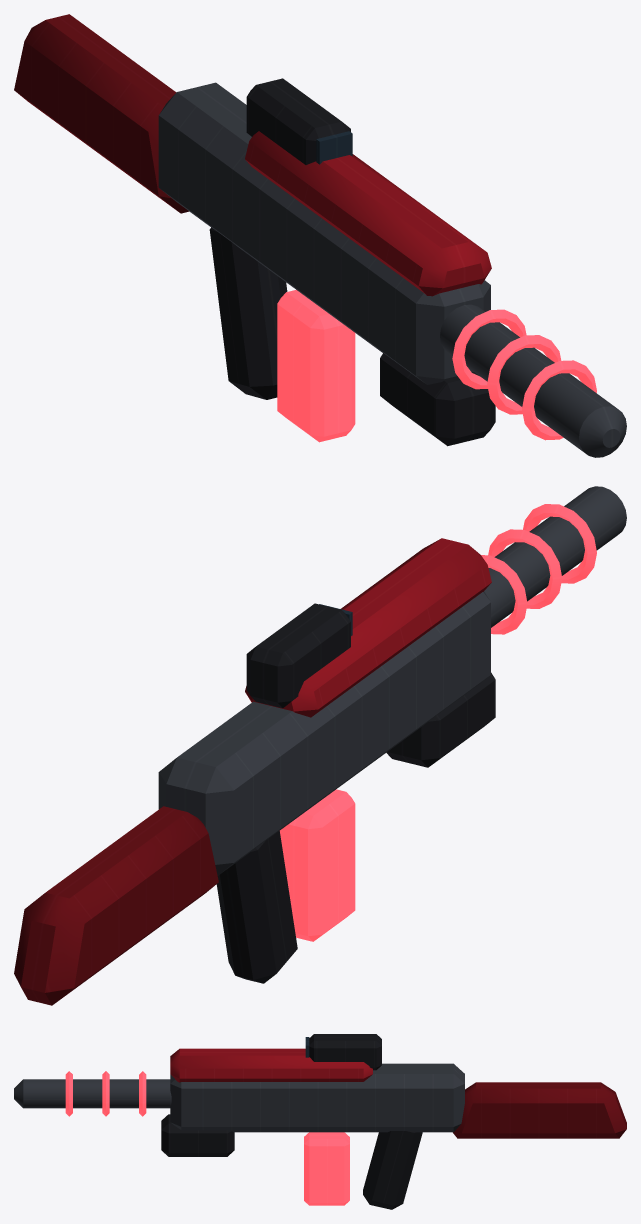
File: gear_crimson_carbine.glb
3 views of the same model, one above another, from view 1: azimuth 30°, elevation 25°; view 2: azimuth 150°, elevation 25°; view 3: azimuth 270°, elevation 25° (orthographic). The views are drawn at different scales.
Visible parts, largest first — view 1: Carbine_Receiver, Carbine_Stock, Carbine_Shell, Carbine_Cell, Carbine_Barrel, Carbine_Grip, Carbine_Fore, Carbine_SightMesh, Carbine_Coil2, Carbine_Coil0, Carbine_Coil1, Carbine_SightLens; view 2: Carbine_Receiver, Carbine_Stock, Carbine_Shell, Carbine_Cell, Carbine_Grip, Carbine_Barrel, Carbine_SightMesh, Carbine_Fore, Carbine_Coil1, Carbine_Coil2, Carbine_Coil0; view 3: Carbine_Receiver, Carbine_Stock, Carbine_Shell, Carbine_Barrel, Carbine_Cell, Carbine_Grip, Carbine_Fore, Carbine_SightMesh, Carbine_Coil1, Carbine_Coil0, Carbine_Coil2.
Part boxes in pixels (x1=…): Carbine_Receiver: x1=158, y1=82, x2=490, y2=384; Carbine_Stock: x1=14, y1=14, x2=188, y2=213; Carbine_Shell: x1=245, y1=131, x2=491, y2=296; Carbine_Cell: x1=277, y1=290, x2=355, y2=442; Carbine_Barrel: x1=440, y1=304, x2=626, y2=457; Carbine_Grip: x1=209, y1=227, x2=287, y2=399; Carbine_Fore: x1=380, y1=353, x2=495, y2=446; Carbine_SightMesh: x1=246, y1=78, x2=350, y2=164; Carbine_Coil2: x1=522, y1=360, x2=596, y2=440; Carbine_Coil0: x1=452, y1=309, x2=526, y2=389; Carbine_Coil1: x1=487, y1=335, x2=561, y2=414; Carbine_SightLens: x1=316, y1=131, x2=352, y2=164; Carbine_Receiver: x1=158, y1=591, x2=490, y2=875; Carbine_Stock: x1=14, y1=806, x2=218, y2=1005; Carbine_Shell: x1=245, y1=538, x2=491, y2=717; Carbine_Cell: x1=280, y1=789, x2=355, y2=941; Carbine_Grip: x1=216, y1=830, x2=297, y2=983; Carbine_Barrel: x1=484, y1=486, x2=626, y2=627; Carbine_SightMesh: x1=246, y1=603, x2=350, y2=708; Carbine_Fore: x1=386, y1=672, x2=495, y2=767; Carbine_Coil1: x1=488, y1=529, x2=562, y2=608; Carbine_Coil2: x1=523, y1=504, x2=596, y2=583; Carbine_Coil0: x1=481, y1=555, x2=527, y2=634; Carbine_Receiver: x1=170, y1=1063, x2=464, y2=1132; Carbine_Stock: x1=453, y1=1082, x2=626, y2=1138; Carbine_Shell: x1=170, y1=1048, x2=372, y2=1082; Carbine_Barrel: x1=14, y1=1079, x2=171, y2=1108; Carbine_Cell: x1=304, y1=1132, x2=349, y2=1205; Carbine_Grip: x1=363, y1=1131, x2=422, y2=1209; Carbine_Fore: x1=161, y1=1114, x2=234, y2=1156; Carbine_SightMesh: x1=309, y1=1034, x2=381, y2=1070; Carbine_Coil1: x1=102, y1=1071, x2=109, y2=1116; Carbine_Coil0: x1=139, y1=1071, x2=146, y2=1116; Carbine_Coil2: x1=65, y1=1071, x2=72, y2=1116.
Size of the model in its own units: 0.05 by 0.2039 by 0.6662.
7 materials, 7 textured.
